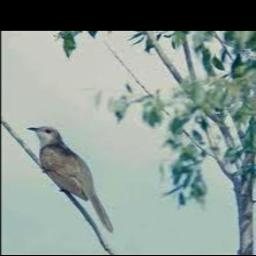Cuckoo: (27, 126, 113, 233)
